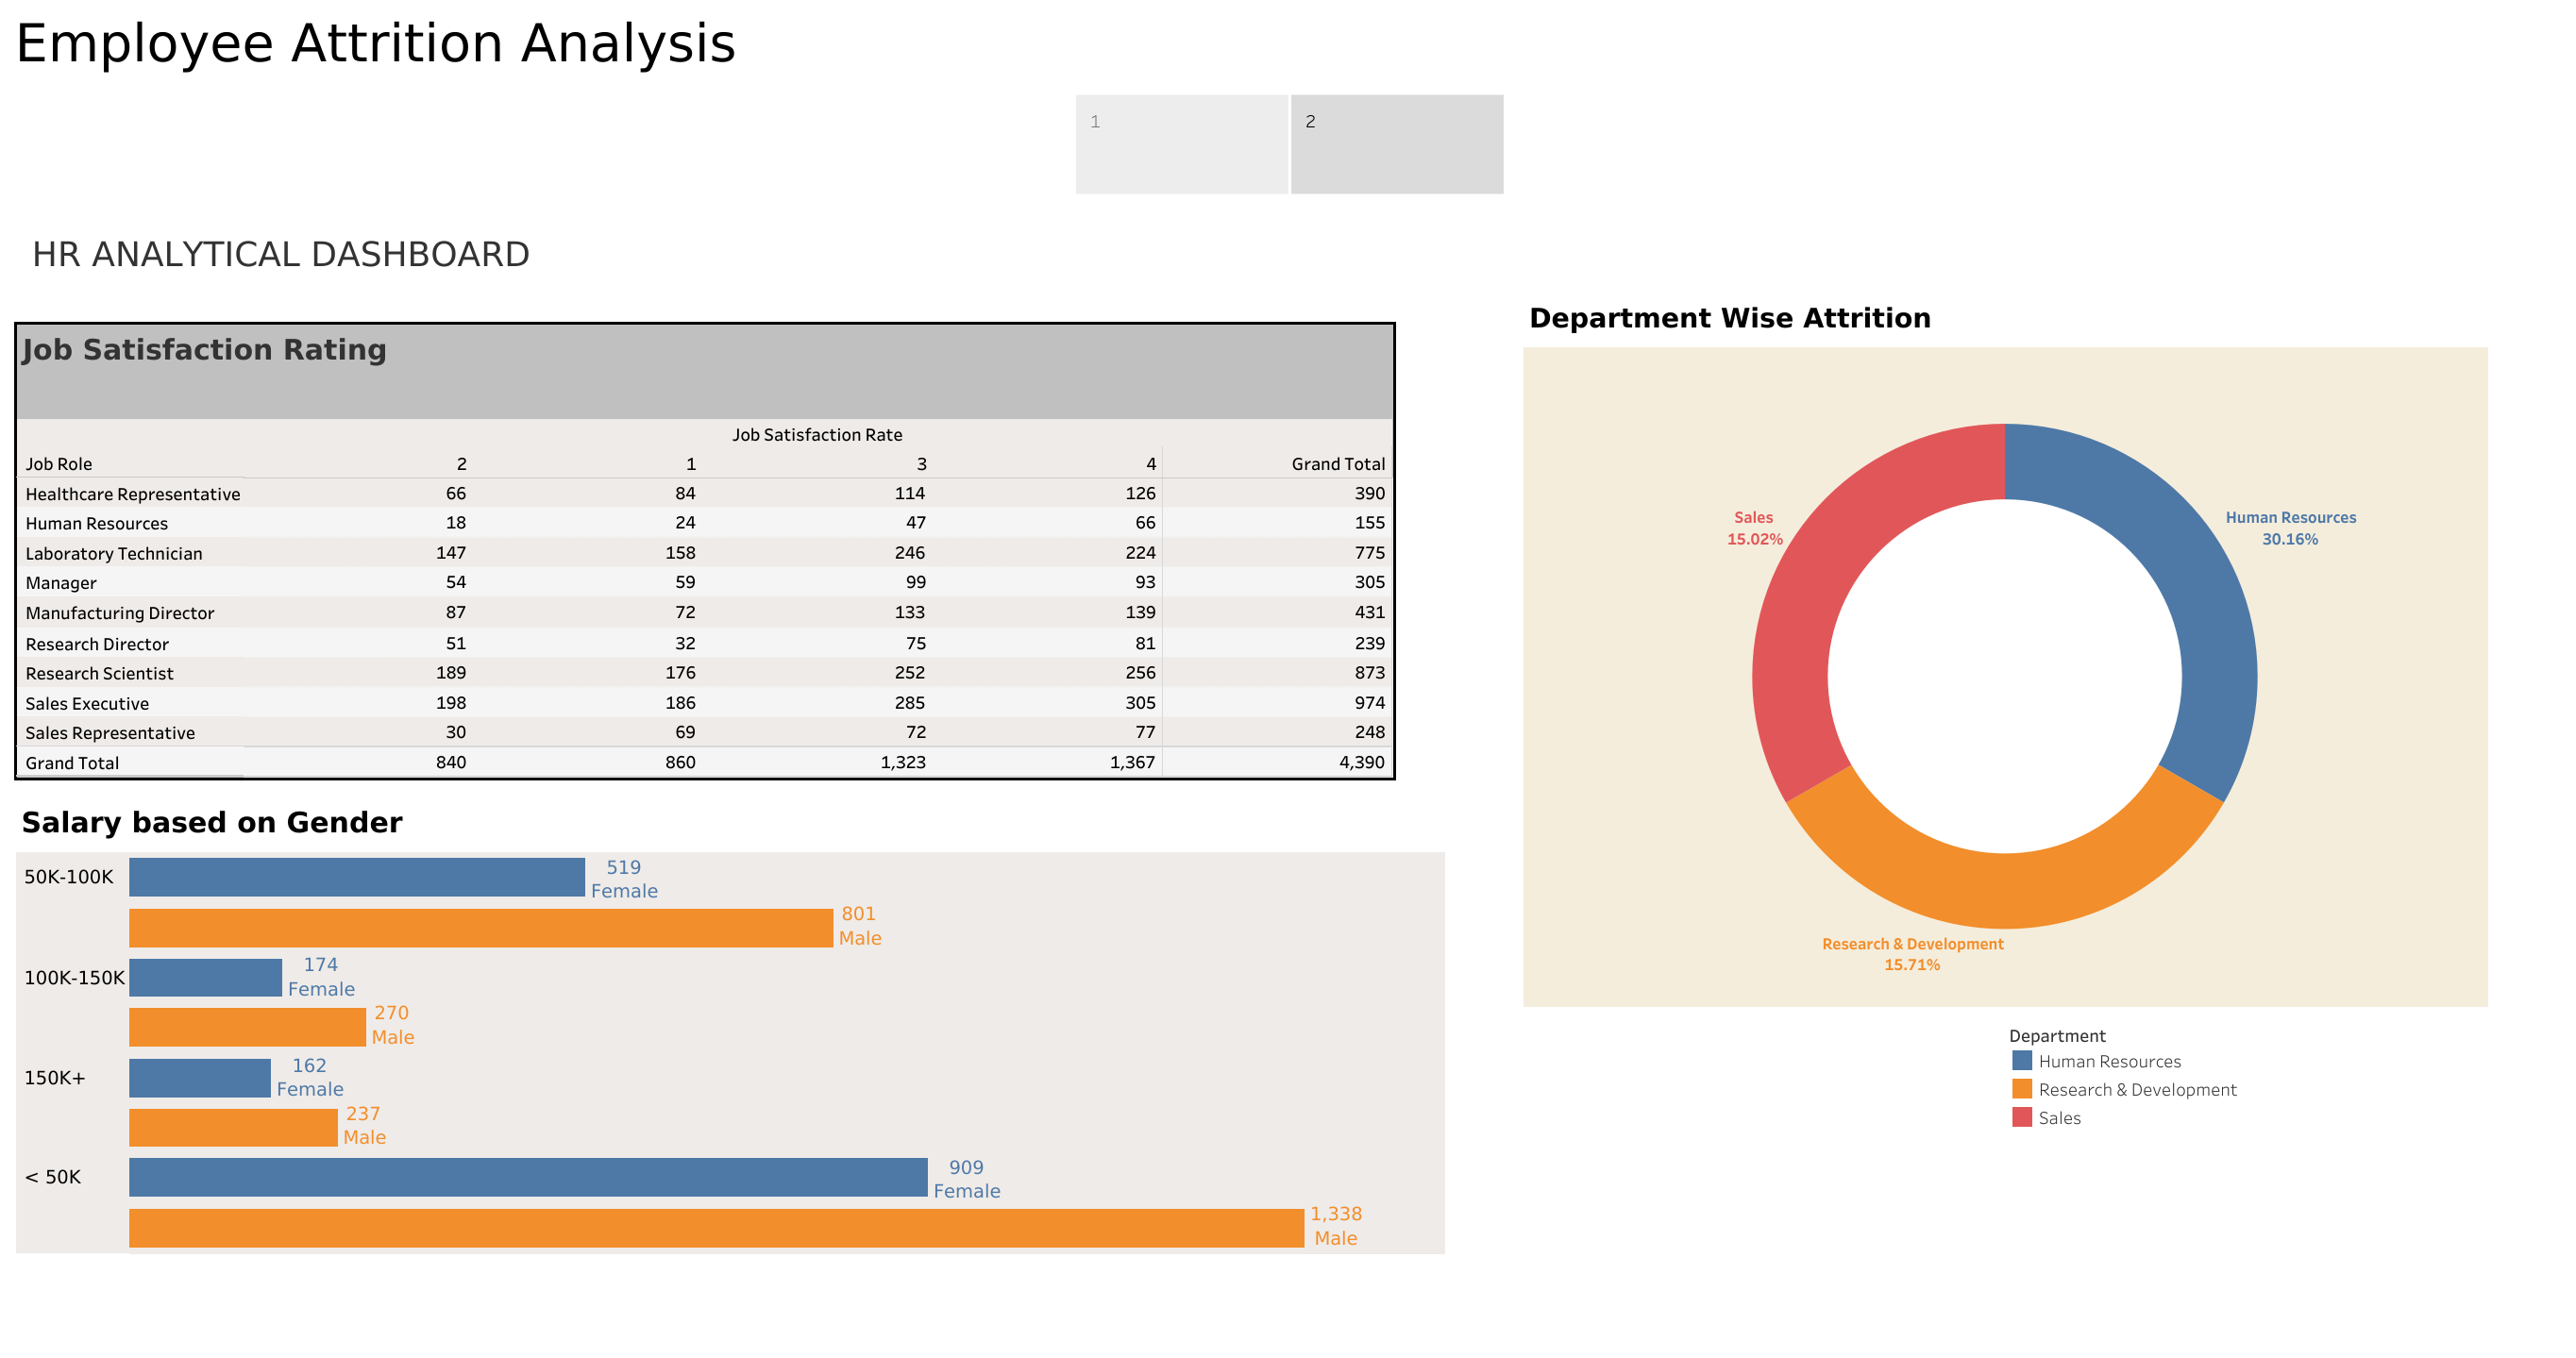

What the dashboard file says about the page in this screenshot:
{"tool":"tableau","page":{"name":"Dashboard 1","canvas":[1000,1000],"units":"permille","ordinal":0},"visuals":[{"type":"title","box":[0,0,1000,61.9]},{"type":"worksheet","title":"Sheet 7","mark":"Pie","rows":["EmployeeCount","EmployeeCount"],"box":[633.9,80.3,361.1,361.8]},{"type":"worksheet","title":"Sheet 8","mark":"Automatic","box":[0.6,81.6,610.3,234.2]},{"type":"worksheet","title":"Sheet 1","mark":"Automatic","rows":["Calculation_1136877454654398464"],"cols":["EmployeeCount"],"box":[0.6,307.9,399,681.6]},{"type":"worksheet","title":"Sheet 5","mark":"Automatic","rows":["Age"],"cols":["Calculation_1136877454654398464","Gender"],"box":[411.4,442.1,587.9,551.3]}]}

Visuals, with their boxes on the dashboard's canvas, which has no fixed pixel size, in thousandths of its width and height (x1, y1, x2, y2). These are canvas units, not pixel positions in the 2576x1358 screenshot, which may show the page scaled, cropped or inside an application window:
title: box=[0, 0, 1000, 62]
"Sheet 7" worksheet (Pie marks): box=[634, 80, 995, 442]
"Sheet 8" worksheet: box=[1, 82, 611, 316]
"Sheet 1" worksheet: box=[1, 308, 400, 990]
"Sheet 5" worksheet: box=[411, 442, 999, 993]
